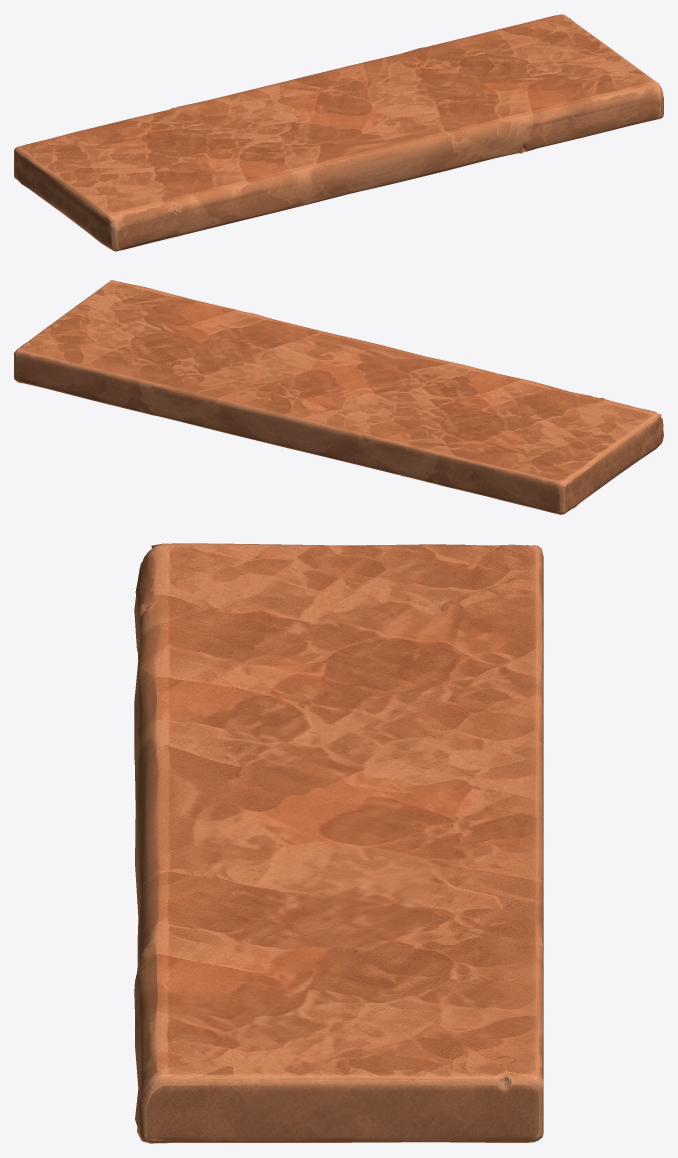
Rendered from tread.glb.
3 renders of one model, top to bottom at view 1: azimuth 30°, elevation 25°; view 2: azimuth 150°, elevation 25°; view 3: azimuth 270°, elevation 25°, orthographic. The views are drawn at different scales.
Size of the model in its own units: 0.9536 by 0.0552 by 0.3057.
Materials: 1 (1 with a texture image).
